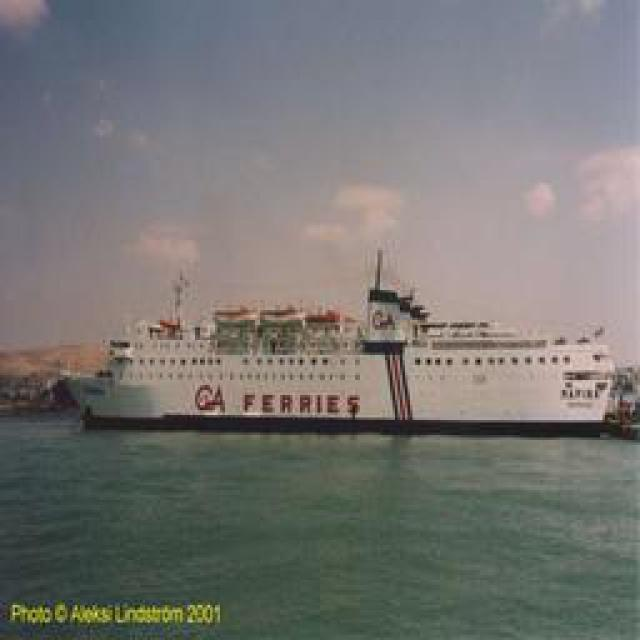Ship: (85, 294, 625, 429)
